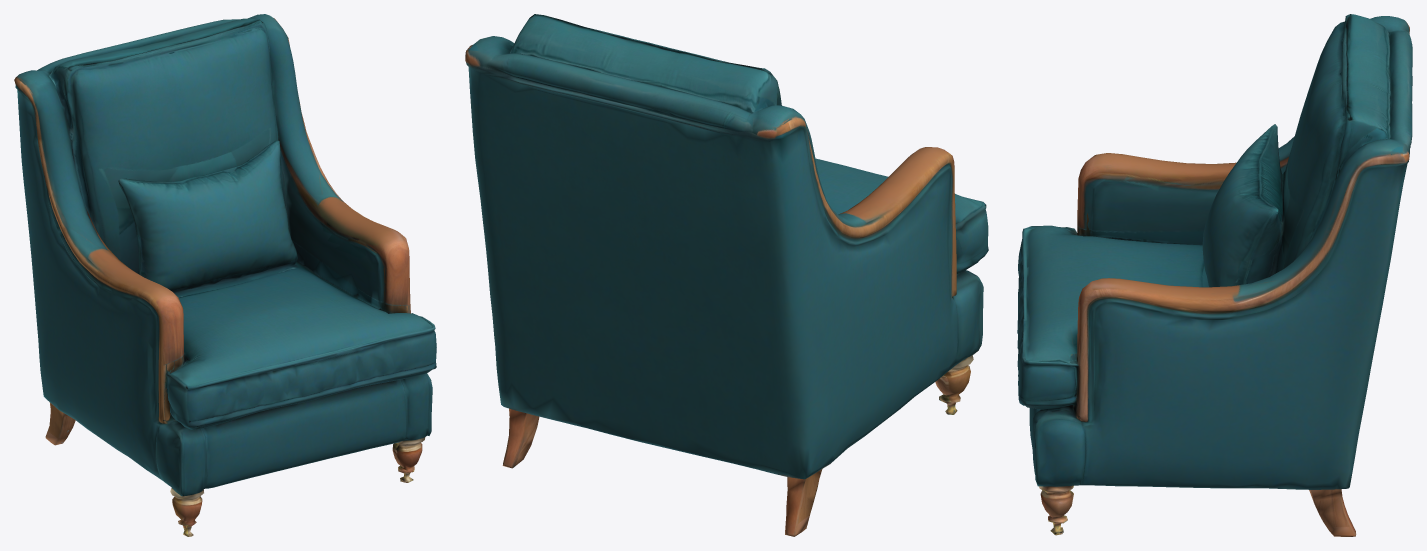
File: chair.glb
3 views of the same model, side by side, from view 1: azimuth 30°, elevation 25°; view 2: azimuth 150°, elevation 25°; view 3: azimuth 270°, elevation 25° (orthographic). The views are drawn at different scales.
Parts seen in each view (by area): view 1: temp; view 2: temp; view 3: temp.
Part boxes in pixels (box(x1,y1,x2,y2)): temp: box(14, 14, 436, 536); temp: box(465, 14, 988, 536); temp: box(1017, 14, 1412, 536).
Size of the model in its own units: 1.5 by 2 by 1.75.
1 material, 1 textured.
